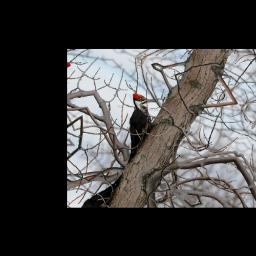Woodpecker: (99, 90, 168, 169)
